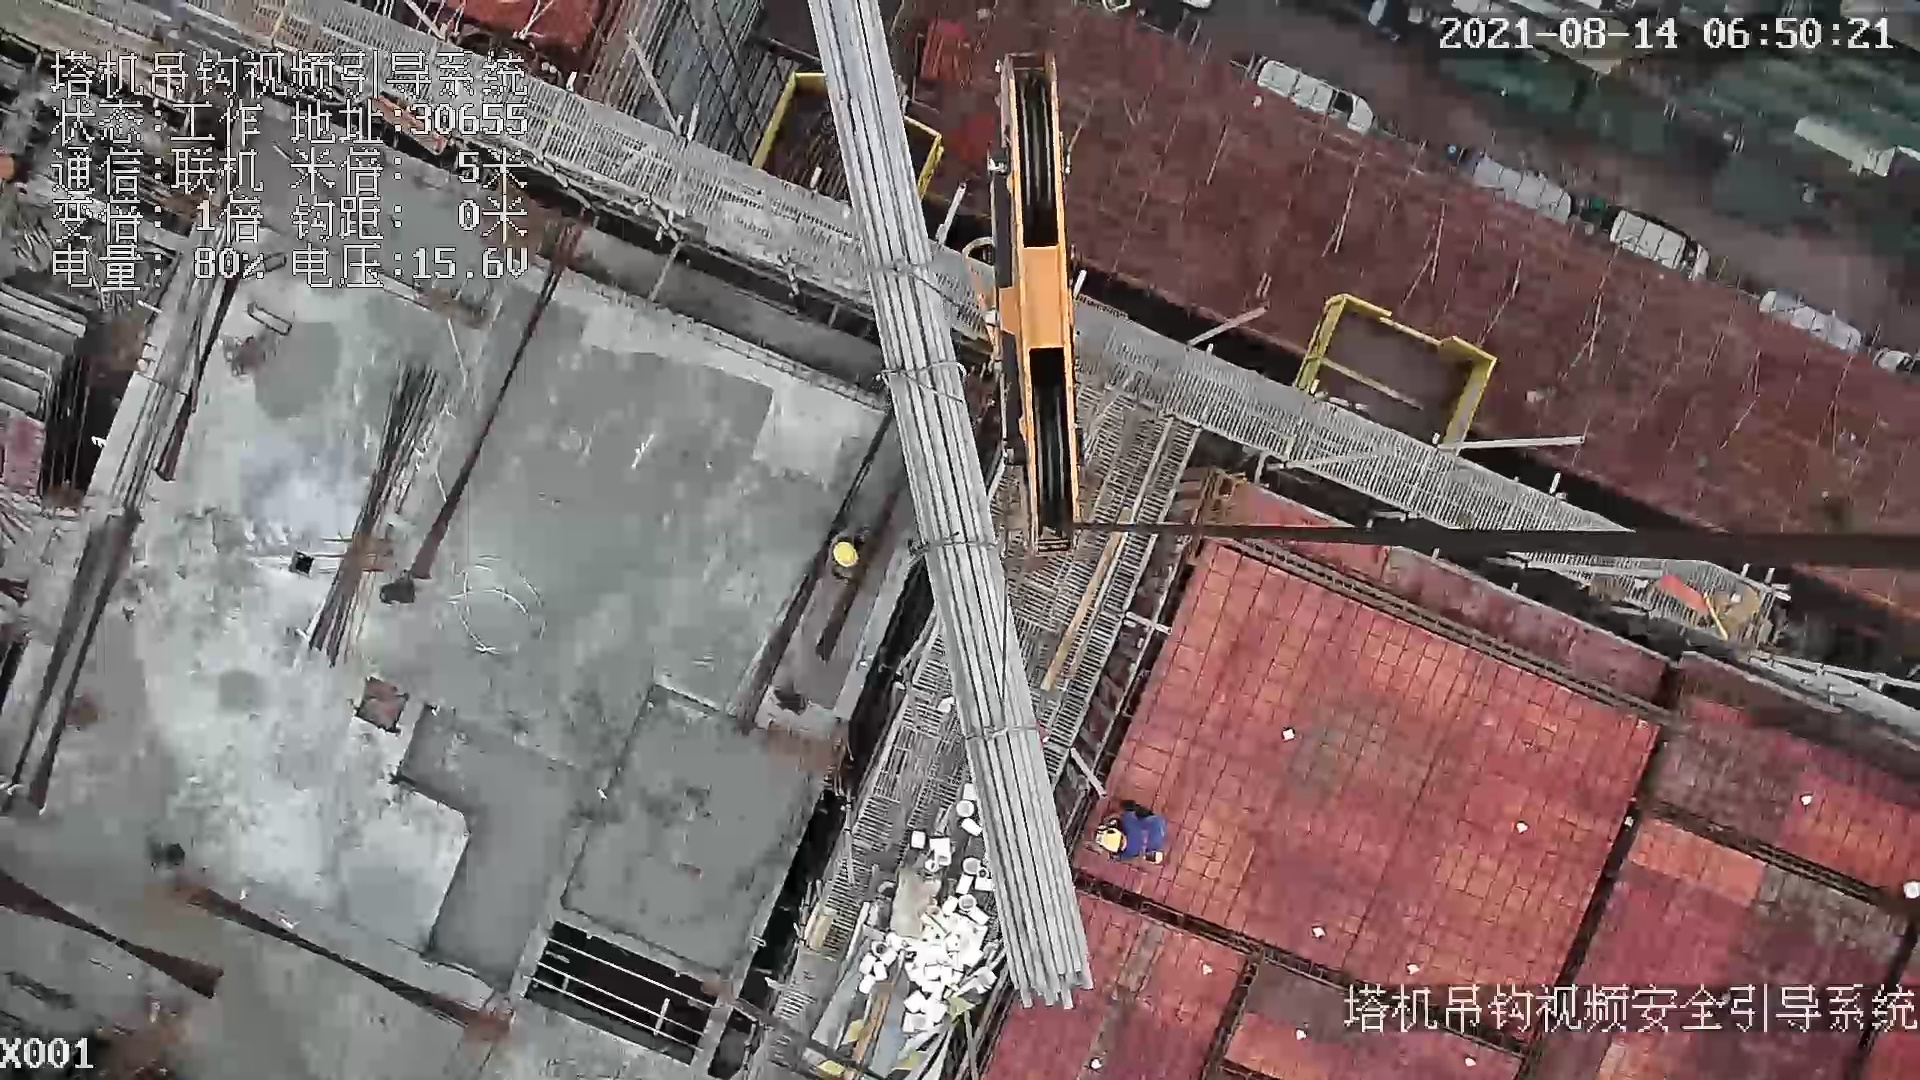helmet: (1098, 823, 1132, 866), (833, 536, 858, 570)
hook: (955, 50, 1091, 556)
person: (1092, 799, 1172, 867), (832, 532, 870, 583)
